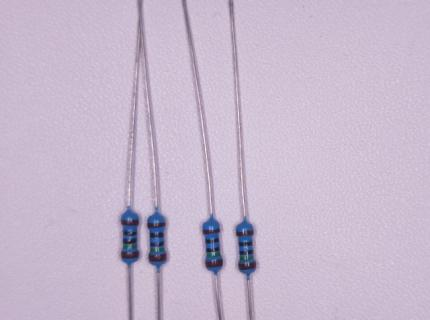Black band: (149, 232, 164, 238), (123, 238, 137, 244), (206, 247, 220, 253), (239, 241, 253, 247), (206, 238, 219, 244), (123, 231, 137, 236), (150, 241, 164, 246), (240, 250, 253, 255)
Brown band: (121, 250, 139, 259), (206, 259, 222, 268), (149, 254, 166, 262), (239, 263, 256, 270), (148, 222, 166, 228), (122, 219, 139, 225), (203, 228, 220, 234), (236, 230, 253, 236)
Green band: (123, 245, 137, 249), (207, 253, 220, 257), (240, 256, 253, 260), (151, 248, 164, 252)
